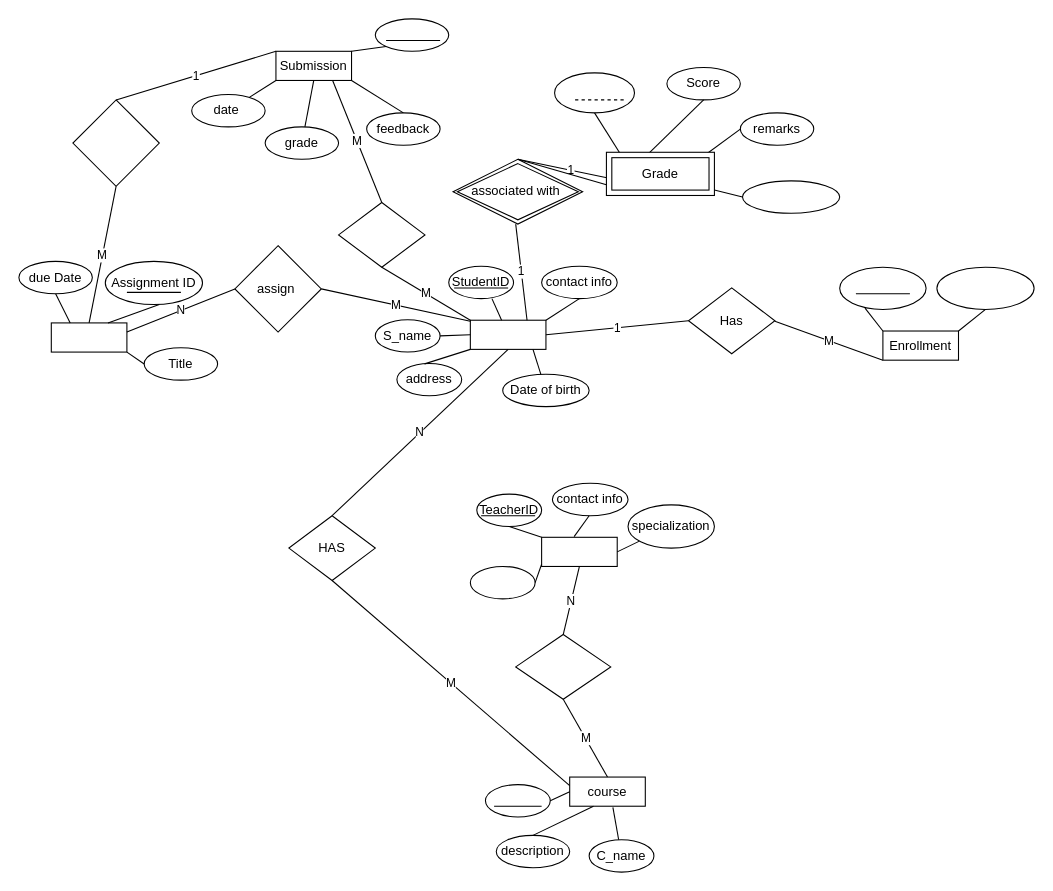
The diagram is 1053 pixels wide and 891 high, and some of its shapes have lost their labels. The centre of each missing label's shape, as x and y in pixels:
AssignedTo: the point at 563,666
Assignment: the point at 88,337
courseID: the point at 517,800
Enrollment Date: the point at 985,287
Enrollment ID: the point at 882,287
evaluation date: the point at 790,196
grade id: the point at 594,92
Involve: the point at 115,142
S_ID: the point at 411,34
student: the point at 507,334
submit: the point at 381,234
T_name: the point at 502,582
Teacher: the point at 579,551
